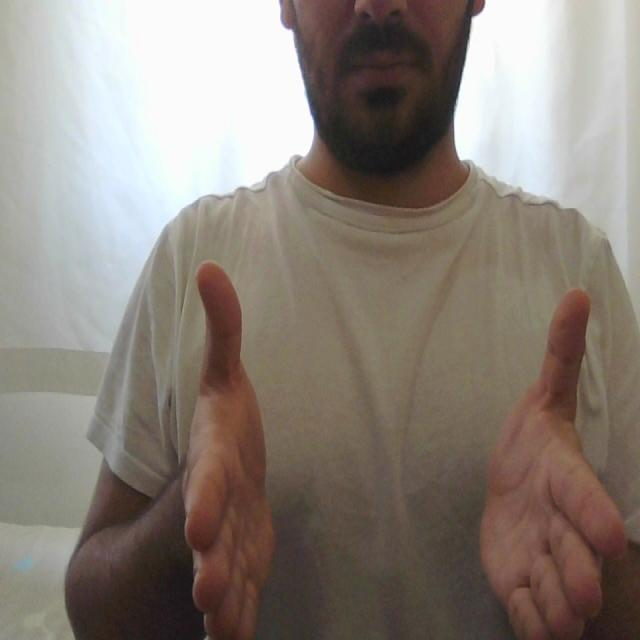Nasil: (183, 259, 617, 640)
